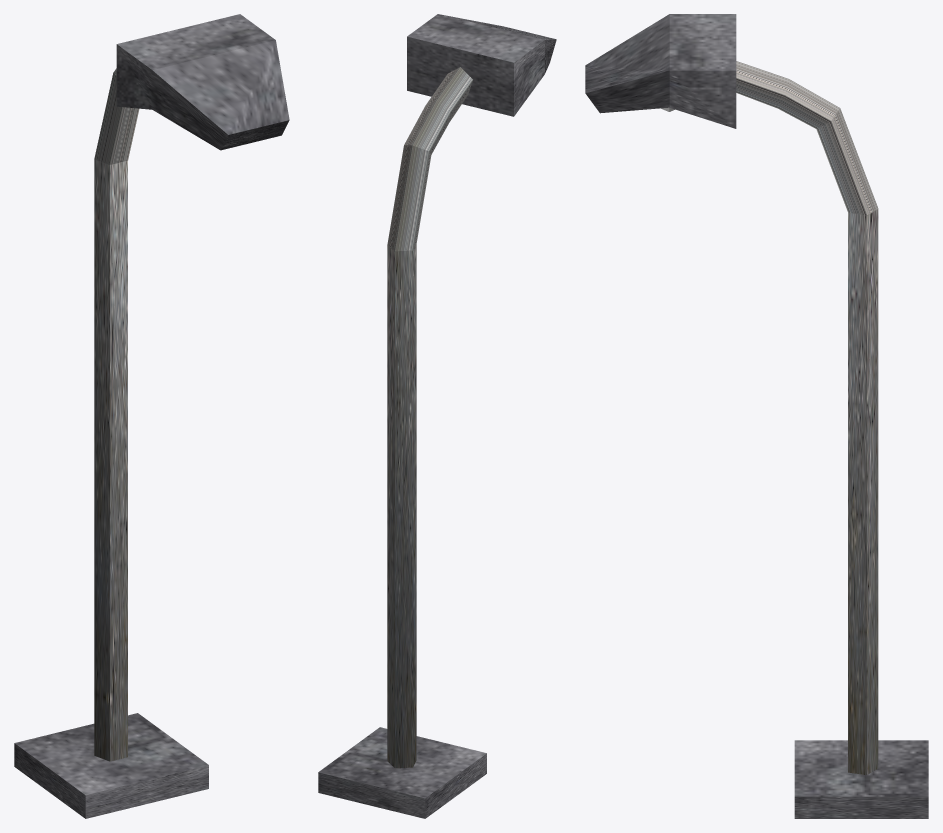
The model's file is LampPost.fbx.
3 renders of one model, left to right at view 1: azimuth 30°, elevation 25°; view 2: azimuth 150°, elevation 25°; view 3: azimuth 270°, elevation 25°, orthographic. The views are drawn at different scales.
Visible parts, largest first — view 1: Cube; view 2: Cube; view 3: Cube.
Boxes of the visible parts, x1,y1,x2,y2 form: Cube: [14, 14, 289, 818]; Cube: [318, 14, 556, 818]; Cube: [585, 14, 928, 818].
Size of the model in its own units: 200 by 1234 by 513.
Materials: 2 (1 with a texture image).
